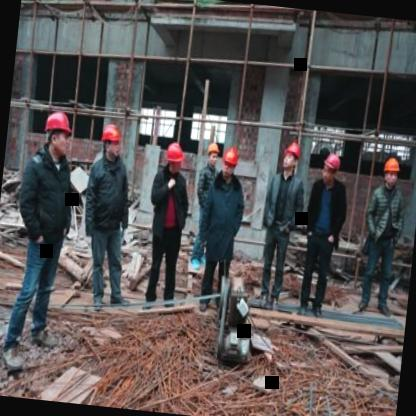helmet: (40, 106, 74, 156), (96, 122, 126, 163), (315, 148, 345, 188), (378, 153, 404, 192), (160, 140, 187, 174), (279, 136, 305, 171), (217, 146, 241, 176), (204, 137, 220, 170)
